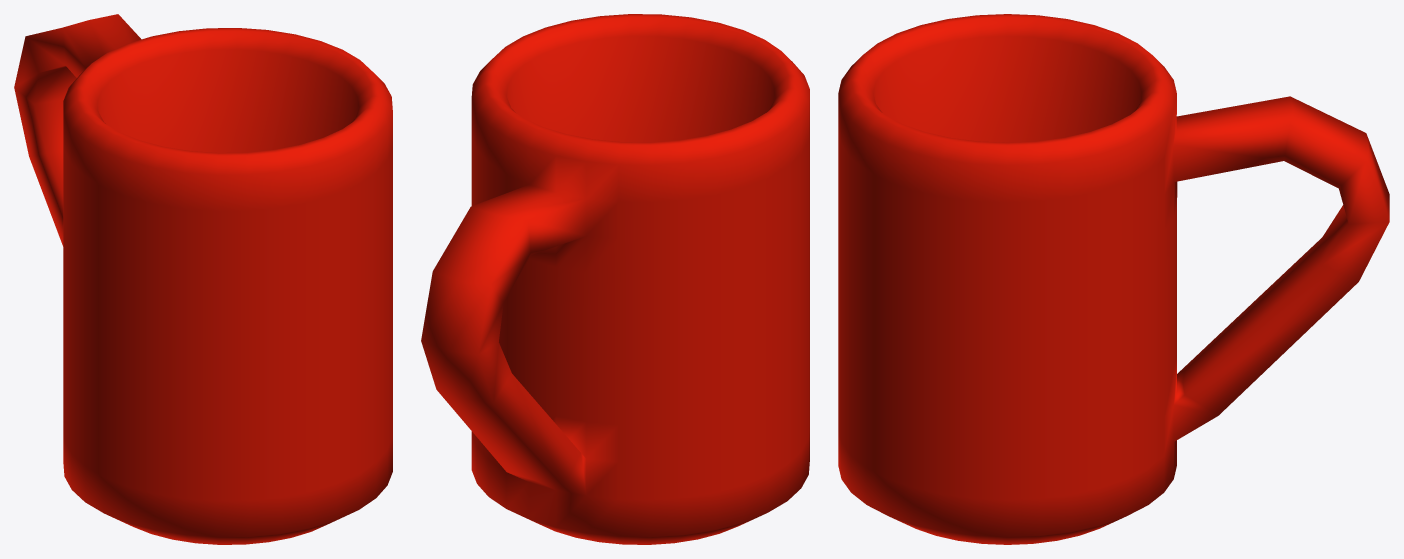
Rendered from taza.fbx.
The picture shows the model from 3 angles, left to right: view 1: azimuth 30°, elevation 25°; view 2: azimuth 150°, elevation 25°; view 3: azimuth 270°, elevation 25°; orthographic projection. The views are drawn at different scales.
Parts seen in each view (by area): view 1: Cube; view 2: Cube; view 3: Cube.
Boxes of the visible parts, x1,y1,x2,y2 form: Cube: [14, 14, 392, 544]; Cube: [421, 14, 809, 544]; Cube: [838, 14, 1389, 544].
Size of the model in its own units: 261 by 349 by 426.
